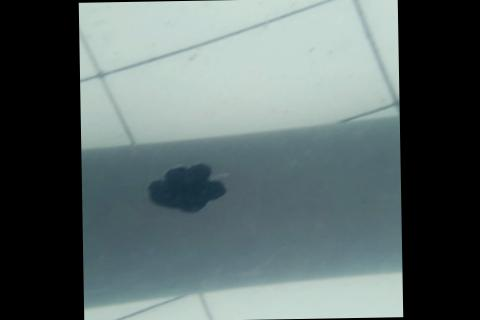kebocoran: (143, 163, 228, 216)
